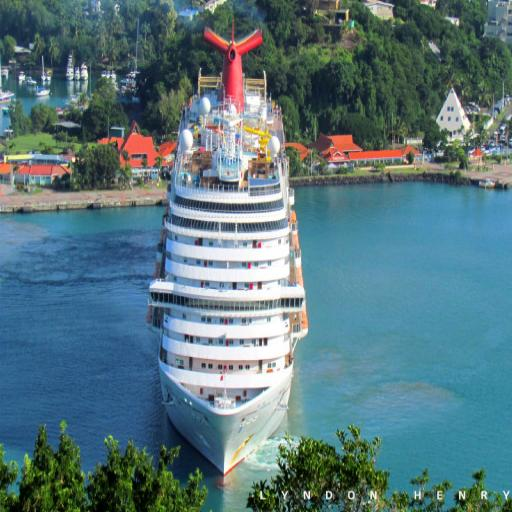cruises: (143, 17, 313, 487)
